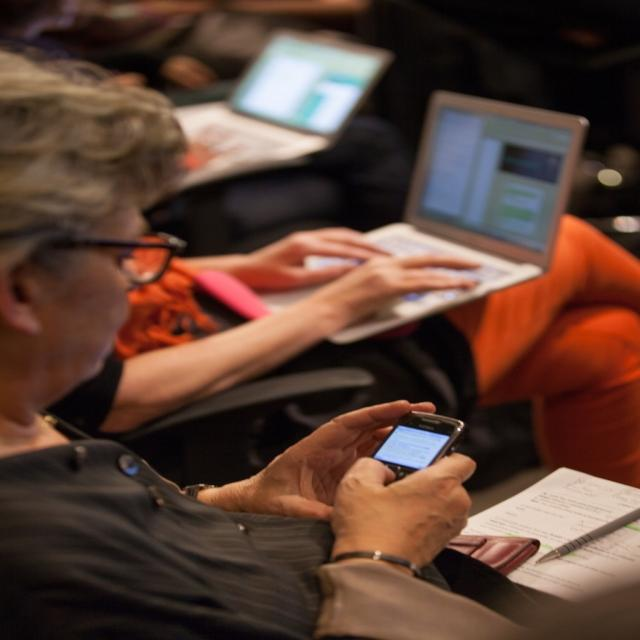Mobile-phone: (350, 404, 470, 492)
